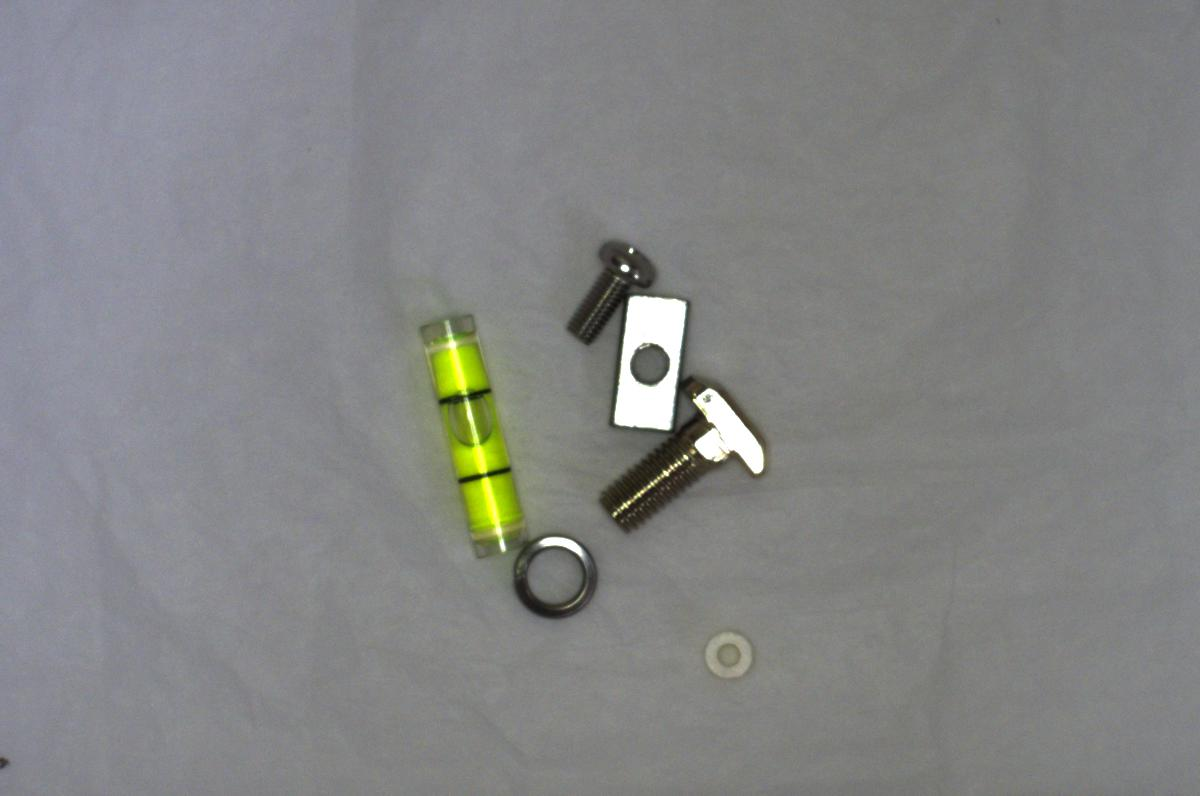Horizontal bubble: (414, 308, 528, 561)
Plastic cushion pillar: (695, 621, 765, 689)
Rectangular nut: (604, 290, 691, 438)
Round head screw: (552, 233, 655, 350)
Spring washer: (508, 528, 601, 621)
T-shaped screw: (593, 379, 772, 523)
